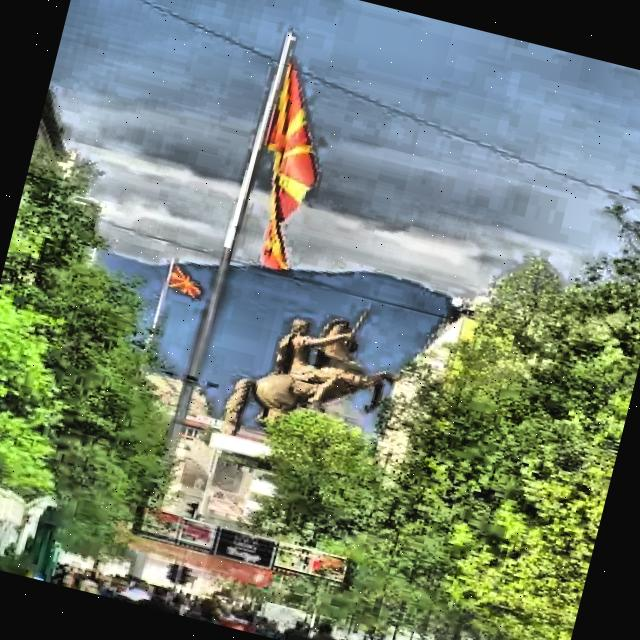alexander the great monument: (206, 281, 410, 544)
